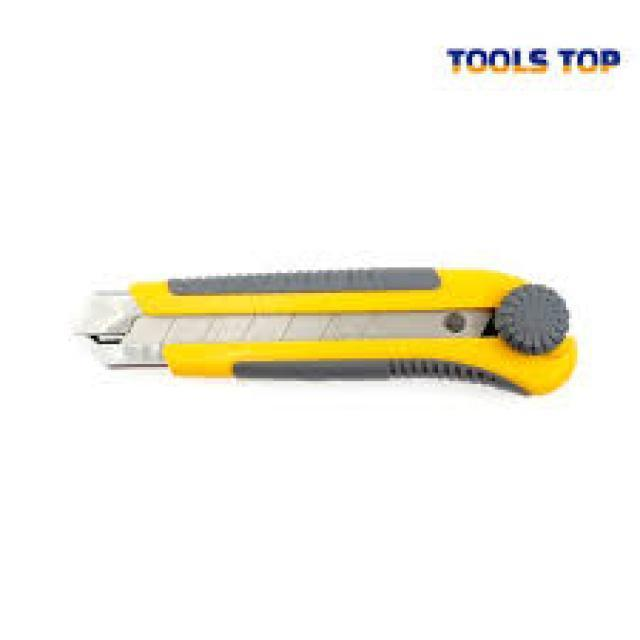cutter: (66, 239, 578, 412)
